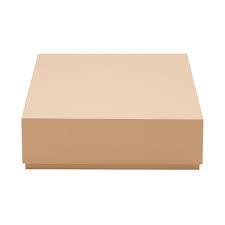box: (21, 53, 204, 170)
